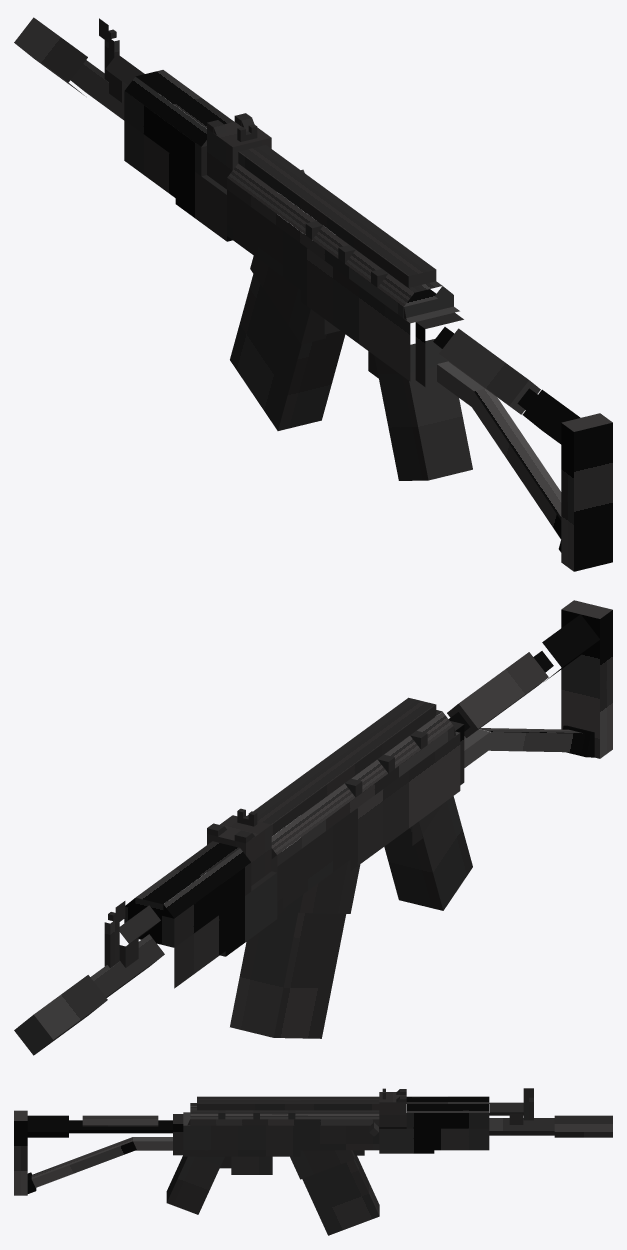
File: aurorasarsenal_vepr_12.glb
3 renders of one model, top to bottom at view 1: azimuth 30°, elevation 25°; view 2: azimuth 150°, elevation 25°; view 3: azimuth 270°, elevation 25°, orthographic. The views are drawn at different scales.
Parts seen in each view (by area): view 1: Gun; view 2: Gun; view 3: Gun.
Boxes of the visible parts, box(x1,y1,x2,y2) form: Gun: box(14, 17, 612, 571); Gun: box(14, 600, 612, 1055); Gun: box(14, 1088, 612, 1235).
Bounding box in the file's own units: 0.0803 × 0.2885 × 1.09.
Materials: 1 (1 with a texture image).
